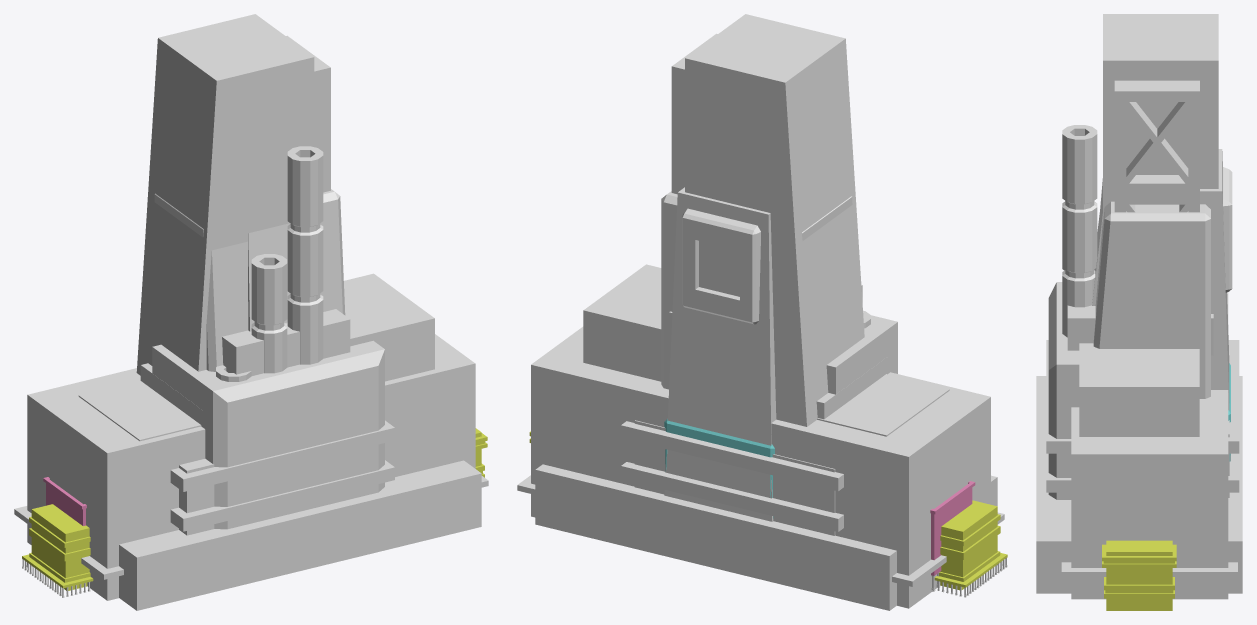
Rendered from Buildings-v7.fbx.
3 renders of one model, left to right at view 1: azimuth 30°, elevation 25°; view 2: azimuth 150°, elevation 25°; view 3: azimuth 270°, elevation 25°, orthographic. The views are drawn at different scales.
Visible parts, largest first — view 1: Building.Main.Type2, Building.Main.Type1, Building.Main.Type6, Building.Huge.Type1, Building.Main.Type9, Building.Main.Type7, Building.Huge.Type5; view 2: Building.Main.Type2, Building.Main.Type1, Building.Main.Type6, Building.Main.Type7, Building.Huge.Type1, Building.Huge.Type2, Building.Huge.Type5; view 3: Building.Main.Type1, Building.Main.Type2, Building.Main.Type6, Building.Huge.Type1, Building.Main.Type7, Building.Main.Type9.
Part boxes in pixels (left/top/right/bottom): Building.Main.Type2: left=136, top=14, right=394, bottom=535; Building.Main.Type1: left=14, top=189, right=488, bottom=600; Building.Main.Type6: left=78, top=273, right=481, bottom=610; Building.Huge.Type1: left=22, top=428, right=487, bottom=597; Building.Main.Type9: left=222, top=309, right=350, bottom=375; Building.Main.Type7: left=140, top=223, right=290, bottom=427; Building.Huge.Type5: left=43, top=477, right=86, bottom=525; Building.Main.Type2: left=621, top=14, right=870, bottom=535; Building.Main.Type1: left=517, top=191, right=1004, bottom=608; Building.Main.Type6: left=535, top=264, right=997, bottom=610; Building.Main.Type7: left=664, top=187, right=888, bottom=521; Building.Huge.Type1: left=529, top=431, right=1007, bottom=597; Building.Huge.Type2: left=664, top=419, right=774, bottom=518; Building.Huge.Type5: left=930, top=481, right=975, bottom=591; Building.Main.Type1: left=1048, top=167, right=1237, bottom=599; Building.Main.Type2: left=1046, top=14, right=1239, bottom=497; Building.Main.Type6: left=1036, top=343, right=1242, bottom=593; Building.Huge.Type1: left=1102, top=540, right=1176, bottom=610; Building.Main.Type7: left=1092, top=149, right=1230, bottom=461; Building.Main.Type9: left=1067, top=305, right=1213, bottom=355.
Size of the model in its own units: 11256 by 12128 by 4807.
